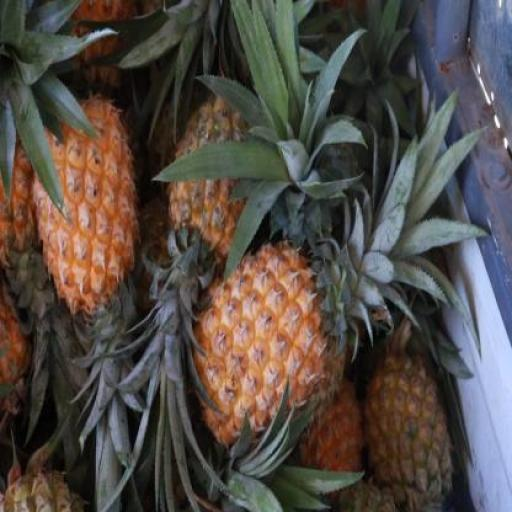------------------------------: (366, 339, 452, 511)
Pineapple - v8 v1: (189, 238, 338, 448), (28, 97, 140, 324)
